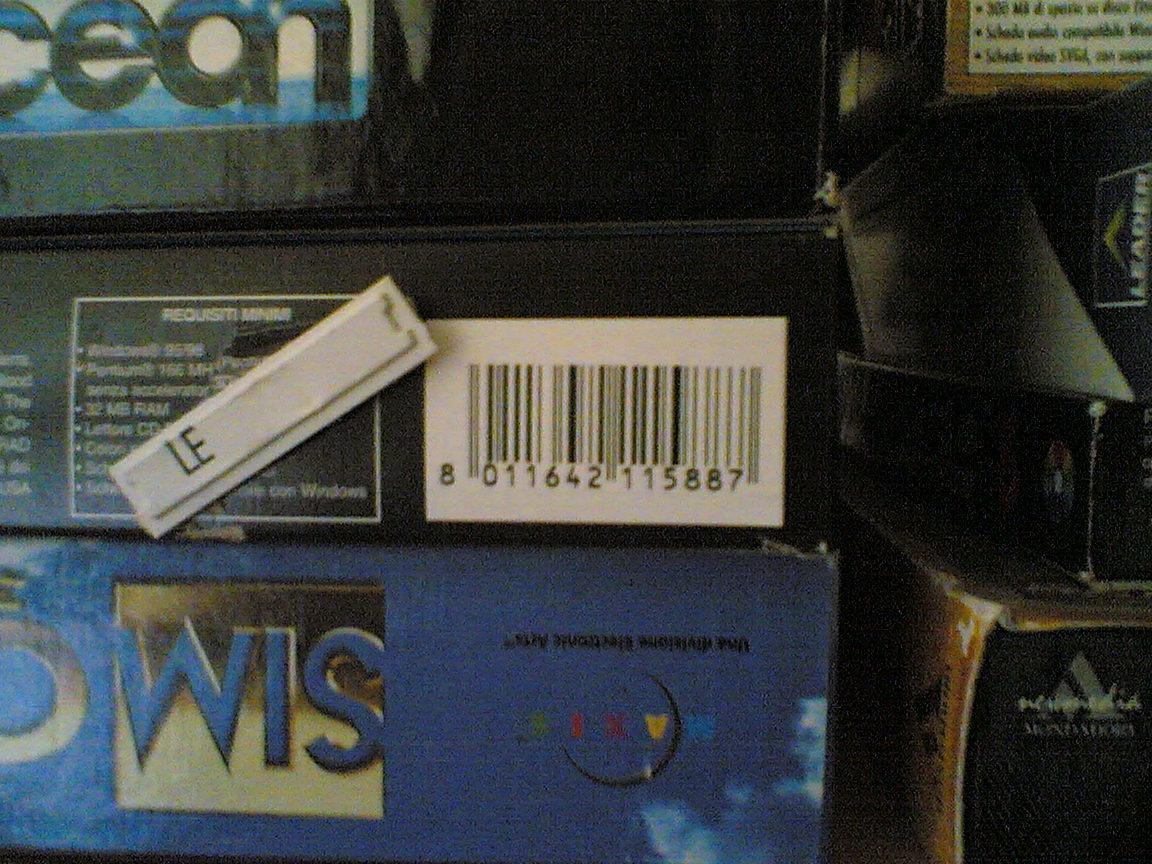Barcode: (434, 331, 776, 515)
